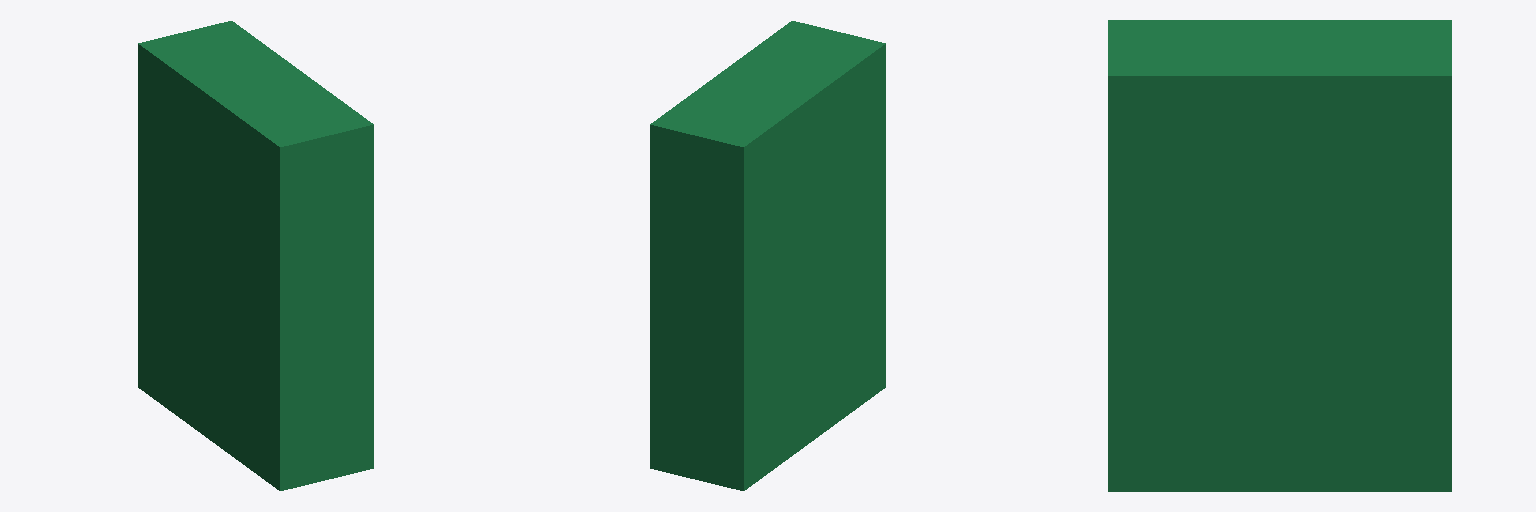
robot.urdf — myfirst:
<?xml version="1.0"?>
 <robot name="myfirst">
   <material name="dark_green">
     <color rgba="0.18039 0.5451 0.341176 1"/>
   </material>
   <link name="right_leg">
     <visual>
       <geometry>
         <box size="0.16 0.21343700408935547 0.061"/>
       </geometry>
       <origin xyz="0 0 0" rpy="1.5707963 0 1.5707963"/>
       <material name="dark_green"/>
     </visual>
     <inertial>
       <mass value="0"/>
       <inertia ixx="1.0" ixy="0.0" ixz="0.0" iyy="1.0" iyz="0.0" izz="1.0"/>
     </inertial>
   </link>
 </robot>

--- What the picture shows (computed from the rendered views, not written in the file) ---
The picture shows the robot from 3 angles, left to right: view 1: azimuth 30°, elevation 25°; view 2: azimuth 150°, elevation 25°; view 3: azimuth 270°, elevation 25°; orthographic projection.
Model myfirst with 1 links and 0 joints (none), rooted at right_leg, posed all joints at 0.
Visible links, largest first — view 1: right_leg; view 2: right_leg; view 3: right_leg.
Boxes of the visible links, box(x1,y1,x2,y2) form: right_leg: box(138, 21, 373, 490); right_leg: box(650, 21, 885, 490); right_leg: box(1108, 20, 1451, 491).
Bounding box of the posed robot: 0.061 × 0.16 × 0.2134 m (x, y, z).
Geometry: primitives only (box / cylinder / sphere), no mesh files.
